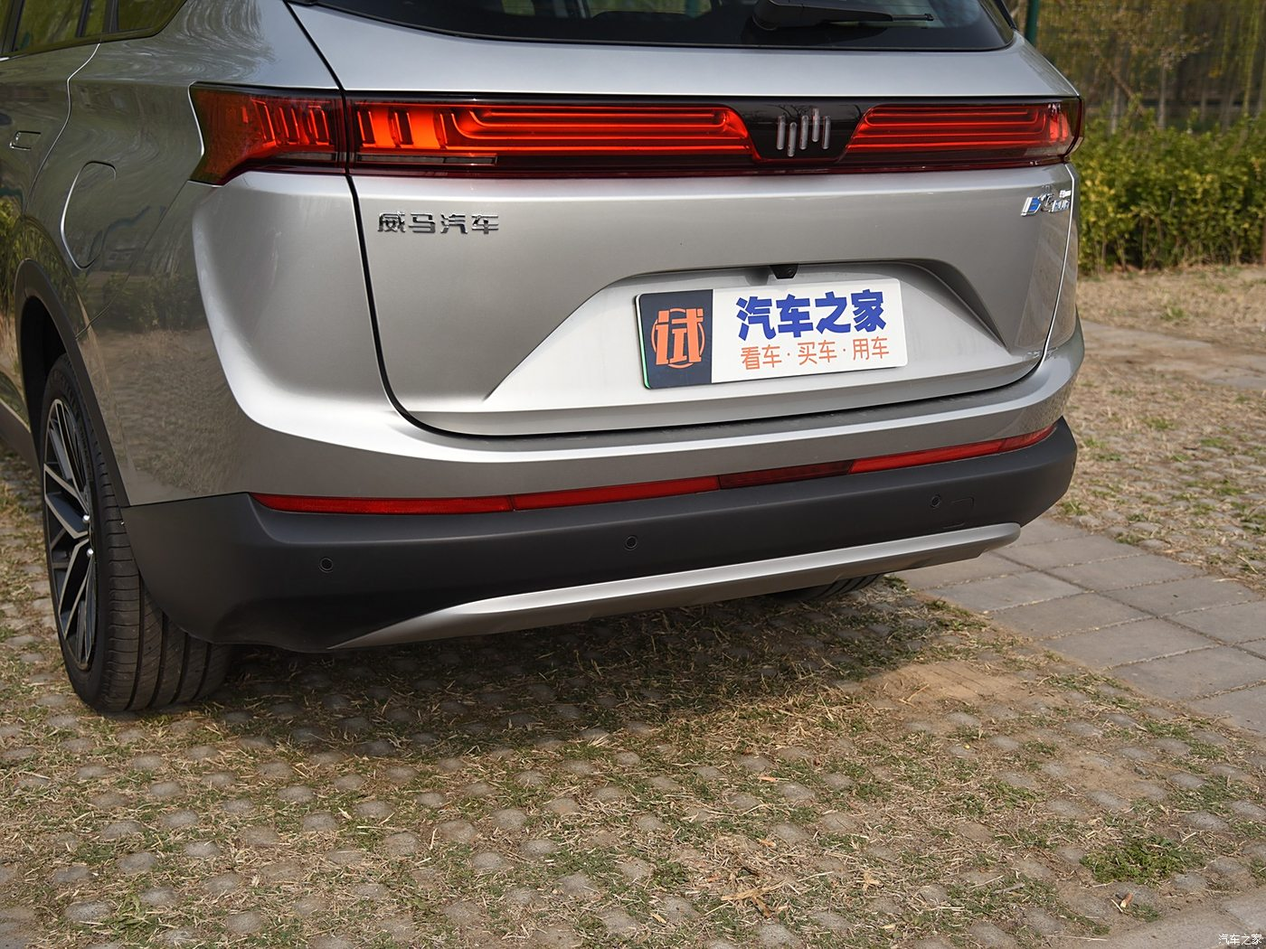WELTMEISTER: (778, 108, 830, 157)
